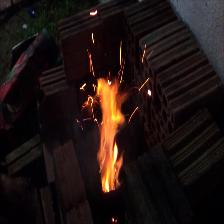fire: (68, 52, 159, 202)
